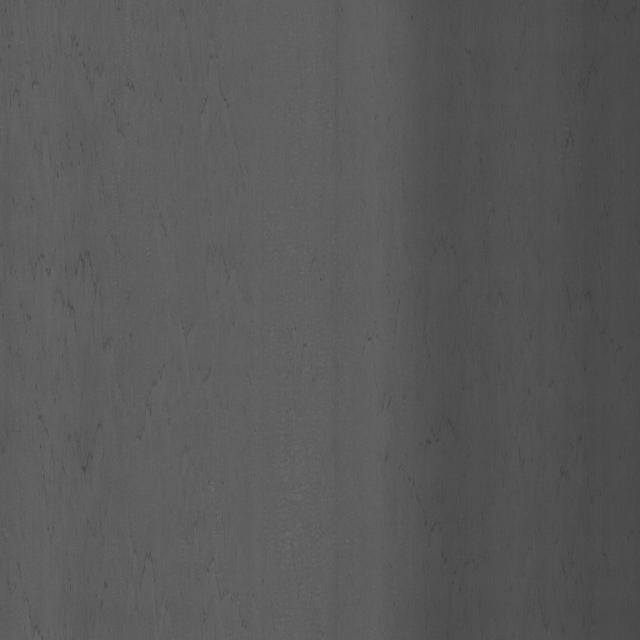inclusion: (41, 51, 180, 508)
